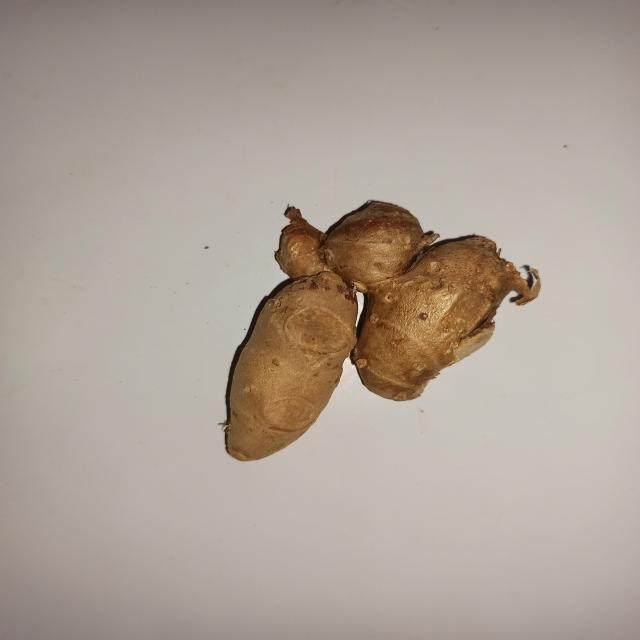ginger: (233, 206, 508, 451)
